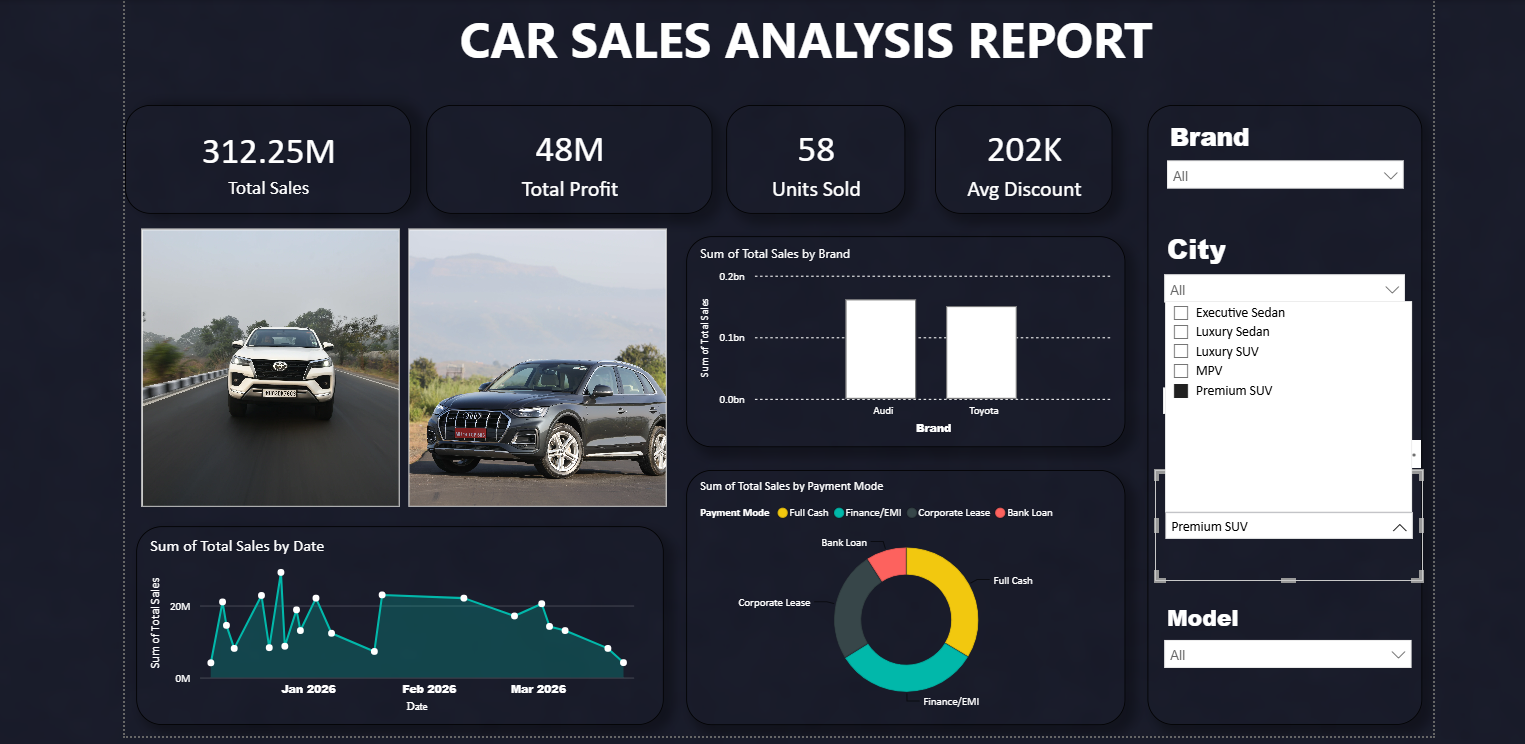

The dashboard page shown, as its layout file describes it:
{"tool":"powerbi","page":{"name":"Page 1","canvas":[1280,720],"ordinal":0},"visuals":[{"type":"card","fields":{"Values":["Sum(car_sales_full.Total Sales)"]},"box":[0,102.7,280,106.4],"z":0},{"type":"card","fields":{"Values":["Sum(car_sales_full.Profit)"]},"box":[294.7,102.7,280,106.4],"z":1000},{"type":"card","fields":{"Values":["Sum(car_sales_full.Units Sold)"]},"box":[588.2,102.7,174.9,106.4],"z":2000},{"type":"card","fields":{"Values":["Avg(car_sales_full.Discount)"]},"box":[792.4,102.7,173.6,106.4],"z":3000},{"type":"clusteredColumnChart","fields":{"Category":["car_sales_full.Brand"],"Y":["Sum(car_sales_full.Total Sales)"]},"box":[549.1,231.1,429.2,206.7],"z":4000},{"type":"areaChart","fields":{"Category":["car_sales_full.Date"],"Y":["Sum(car_sales_full.Total Sales)"]},"box":[11,514.8,516,194.4],"z":5000},{"type":"donutChart","fields":{"Category":["car_sales_full.Payment Mode"],"Y":["Sum(car_sales_full.Total Sales)"]},"box":[549.1,459.8,429.2,249.5],"z":6000},{"type":"slicer","fields":{"Values":["car_sales_full.Brand"]},"box":[1000.3,102.7,269,606.5],"z":7000},{"type":"slicer","fields":{"Values":["car_sales_full.City"]},"box":[1006.4,218.9,255.6,229.9],"z":8000},{"type":"slicer","fields":{"Values":["car_sales_full.Date.Variation.Date Hierarchy.Year","car_sales_full.Date.Variation.Date Hierarchy.Quarter","car_sales_full.Date.Variation.Date Hierarchy.Month","car_sales_full.Date.Variation.Date Hierarchy.Day"]},"box":[1005.2,344.8,259.2,134.5],"z":9000},{"type":"slicer","fields":{"Values":["car_sales_full.Category"]},"box":[1007.6,459.8,261.7,108.8],"z":10000},{"type":"slicer","fields":{"Values":["car_sales_full.Model"]},"box":[1006.4,584.5,261.7,95.4],"z":11000},{"type":"advancedSlicerVisual","fields":{"Values":["car_sales_full.Model Preview"]},"box":[11,218.9,524.6,282.5],"z":12000},{"type":"textbox","box":[70.9,0,1209.4,102.7],"z":13000}]}

Visuals, with their boxes on the page's 1280x720 design canvas (x1, y1, x2, y2). These are canvas units, not pixel positions in the 1525x744 screenshot, which may show the page scaled, cropped or inside an application window:
card - Sum(car_sales_full.Total Sales): [x1=0, y1=103, x2=280, y2=209]
card - Sum(car_sales_full.Profit): [x1=295, y1=103, x2=575, y2=209]
card - Sum(car_sales_full.Units Sold): [x1=588, y1=103, x2=763, y2=209]
card - Avg(car_sales_full.Discount): [x1=792, y1=103, x2=966, y2=209]
clusteredColumnChart - car_sales_full.Brand x Sum(car_sales_full.Total Sales): [x1=549, y1=231, x2=978, y2=438]
areaChart - car_sales_full.Date x Sum(car_sales_full.Total Sales): [x1=11, y1=515, x2=527, y2=709]
donutChart - car_sales_full.Payment Mode x Sum(car_sales_full.Total Sales): [x1=549, y1=460, x2=978, y2=709]
slicer - car_sales_full.Brand: [x1=1000, y1=103, x2=1269, y2=709]
slicer - car_sales_full.City: [x1=1006, y1=219, x2=1262, y2=449]
slicer - car_sales_full.Date.Variation.Date Hierarchy.Year x car_sales_full.Date.Variation.Date Hierarchy.Quarter: [x1=1005, y1=345, x2=1264, y2=479]
slicer - car_sales_full.Category: [x1=1008, y1=460, x2=1269, y2=569]
slicer - car_sales_full.Model: [x1=1006, y1=584, x2=1268, y2=680]
advancedSlicerVisual - car_sales_full.Model Preview: [x1=11, y1=219, x2=536, y2=501]
textbox: [x1=71, y1=0, x2=1280, y2=103]
